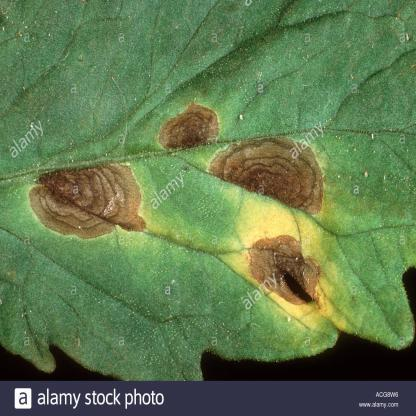Potato leaf late blight: (2, 1, 416, 381)
